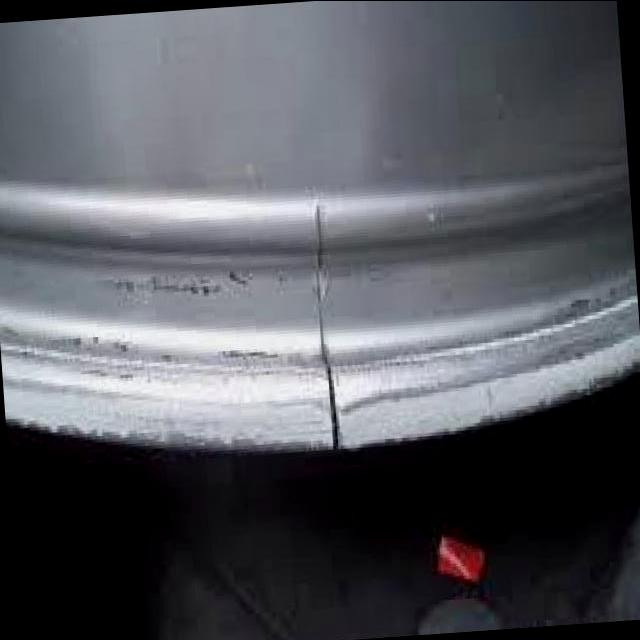defect: (315, 196, 349, 454)
